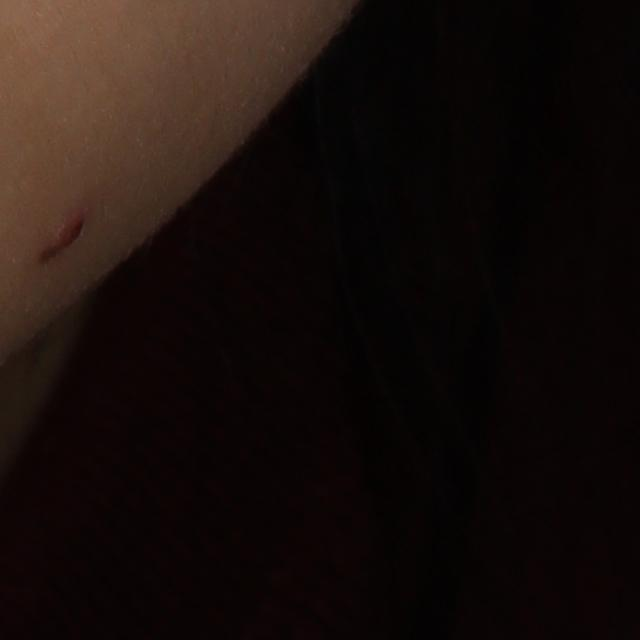papule: (40, 203, 82, 262)
